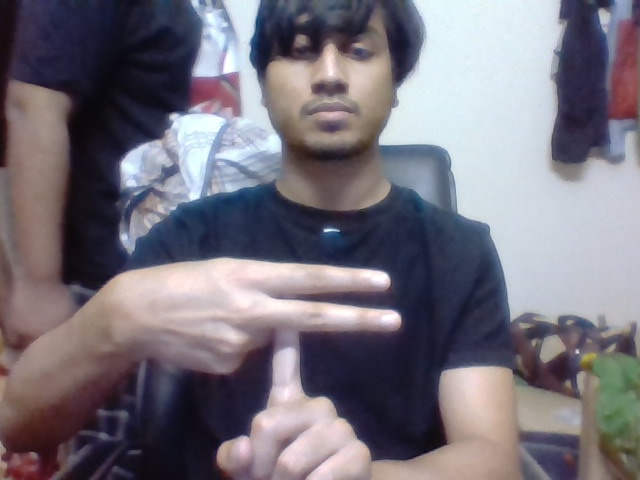F: (269, 256, 407, 395)
